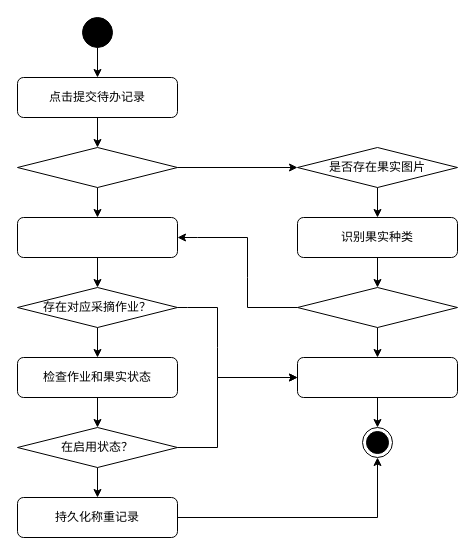
This 475x555 diagram has some shape labels left out. The shapes that lost their labels are listed below. From the top down, each one's box as (x1, y1, x2, y2) in pixels, then its label:
(16, 146, 178, 188): 是否存在果实名称/编号？
(16, 216, 178, 258): 查询果实对应采摘作业
(296, 286, 458, 328): 识别失败？
(296, 356, 458, 398): 抛出异常
